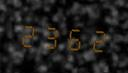six: (62, 19, 83, 54)
three: (40, 18, 61, 52)
two: (18, 16, 39, 51), (84, 21, 105, 55)
